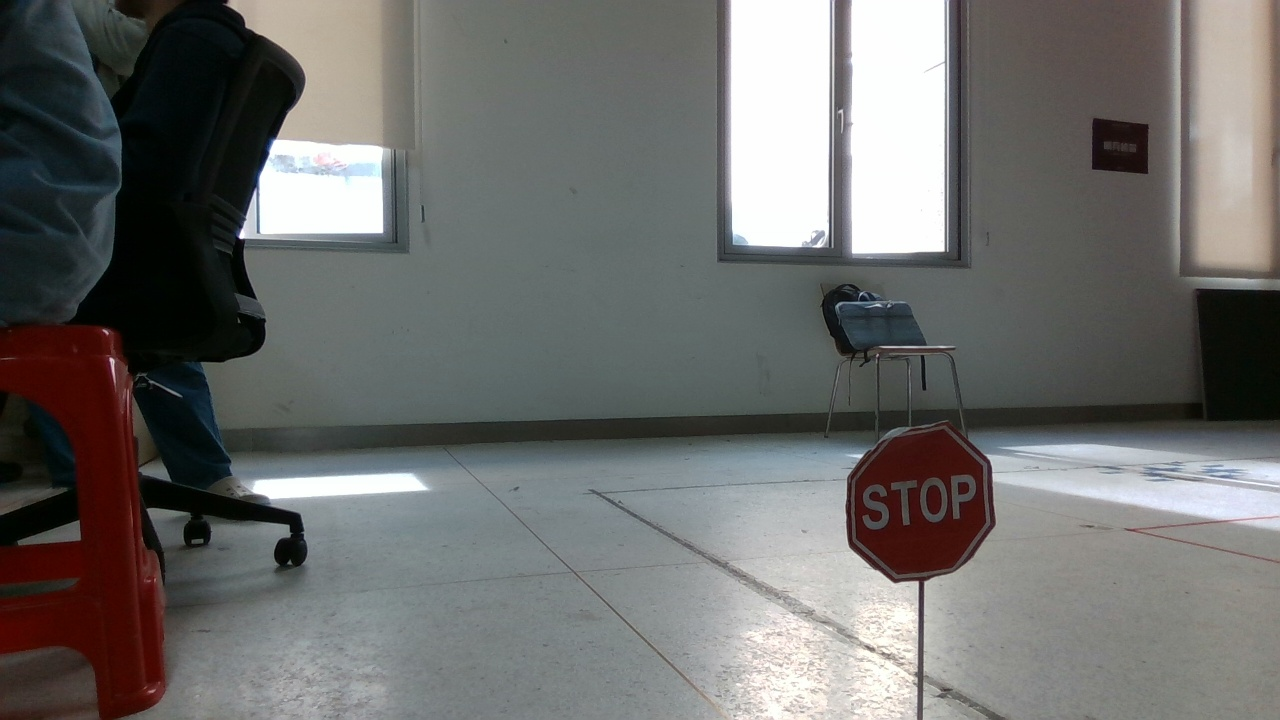stop_sign: (829, 411, 1033, 720)
